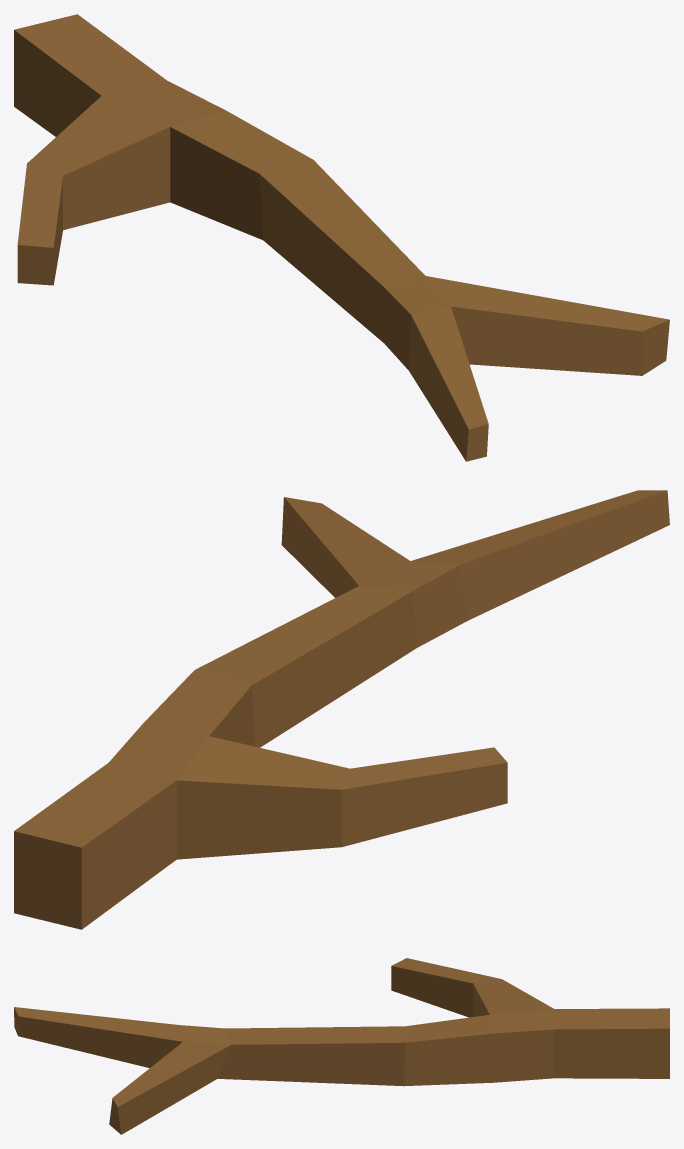
File: Stick 3.fbx
3 views of the same model, one above another, from view 1: azimuth 30°, elevation 25°; view 2: azimuth 150°, elevation 25°; view 3: azimuth 270°, elevation 25° (orthographic). The views are drawn at different scales.
Visible parts, largest first — view 1: Cube; view 2: Cube; view 3: Cube.
Boxes of the visible parts, x1=… form: Cube: x1=14, y1=14, x2=669, y2=461; Cube: x1=14, y1=490, x2=669, y2=929; Cube: x1=14, y1=958, x2=669, y2=1134.
Size of the model in its own units: 119 by 21.34 by 241.
